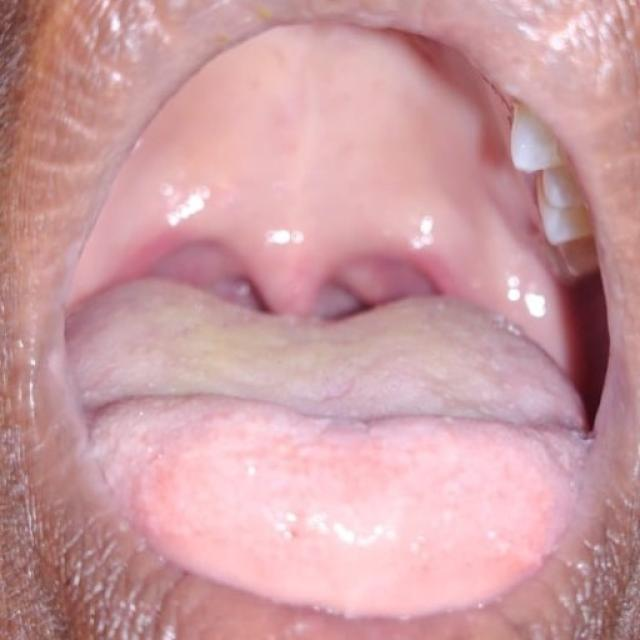processing_area: (65, 30, 586, 615)
